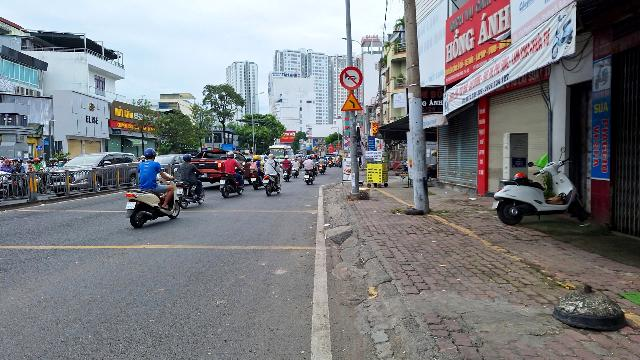cam-bop-coi: (339, 66, 363, 90)
cho-ngoat-nguy-hiem-ben-trai: (341, 91, 363, 111)
